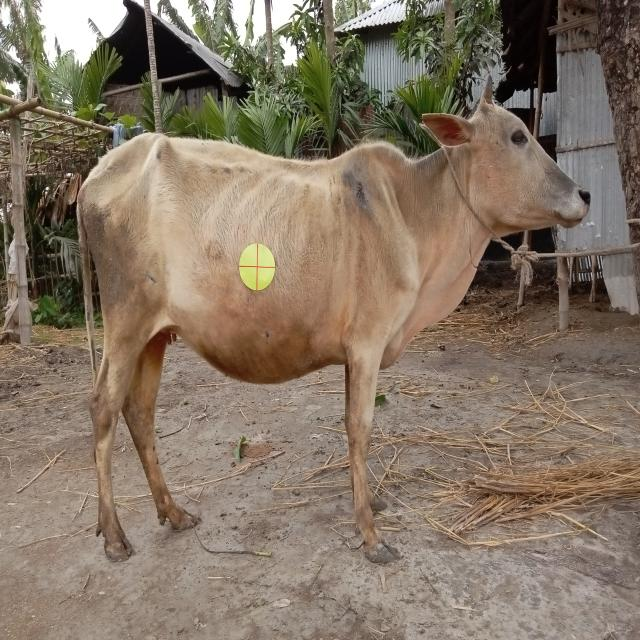badan_sapi: (75, 156, 417, 380)
sapi: (68, 74, 596, 572)
